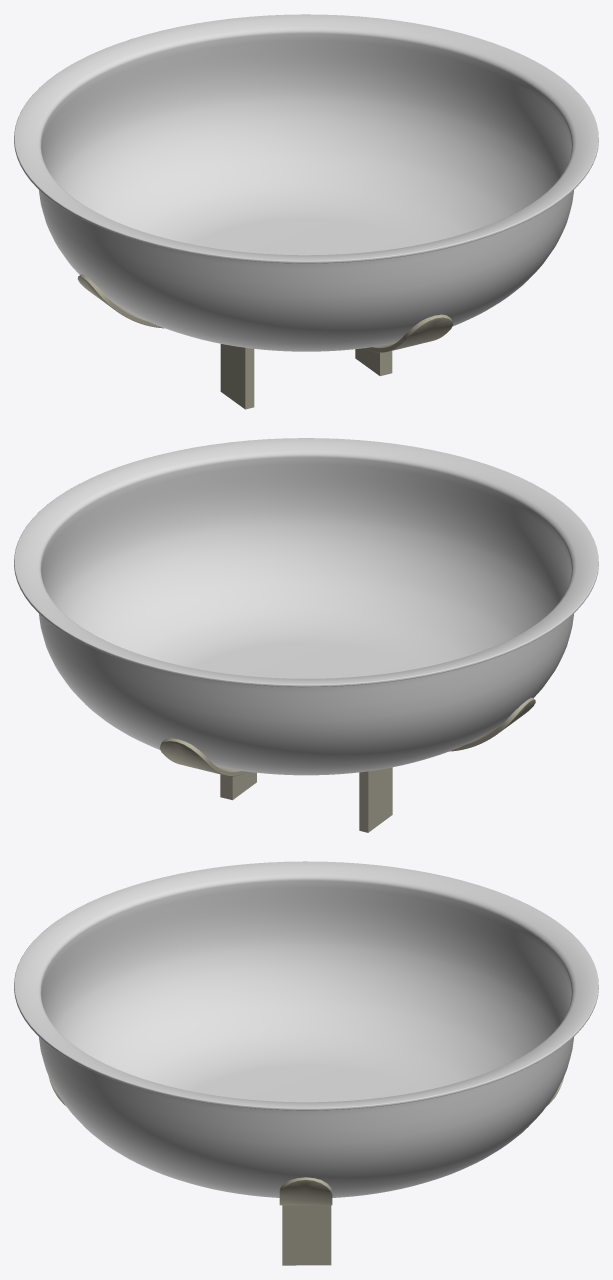
File: bowl.obj
3 renders of one model, top to bottom at view 1: azimuth 30°, elevation 25°; view 2: azimuth 150°, elevation 25°; view 3: azimuth 270°, elevation 25°, orthographic.
Visible parts, largest first — view 1: x_reg_hanson_scales_cup_Untitled; view 2: x_reg_hanson_scales_cup_Untitled; view 3: x_reg_hanson_scales_cup_Untitled.
Part boxes in pixels (x1,y1,x2,y2): x_reg_hanson_scales_cup_Untitled: [14, 14, 598, 409]; x_reg_hanson_scales_cup_Untitled: [14, 438, 598, 832]; x_reg_hanson_scales_cup_Untitled: [14, 861, 598, 1265].
Bounding box in the file's own units: 0.2544 × 0.1174 × 0.2544.
